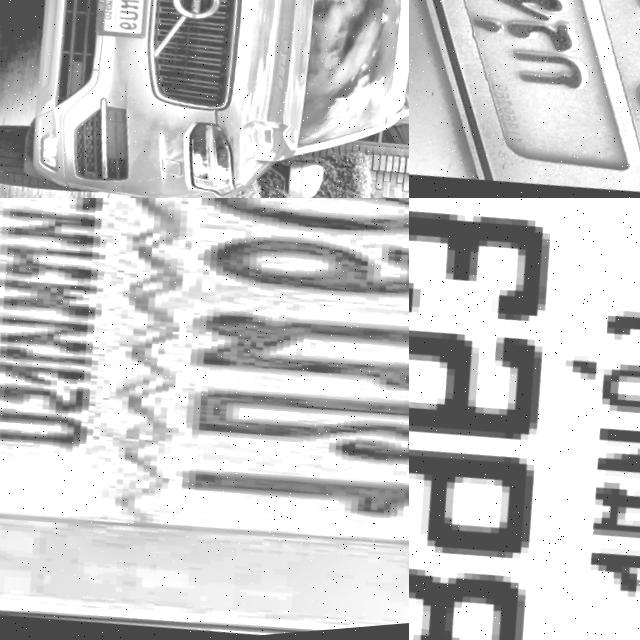license-plate: (0, 198, 409, 640), (409, 198, 640, 640), (409, 0, 640, 198), (79, 0, 156, 46)
